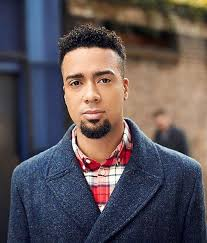b.y: (77, 115, 112, 138)
